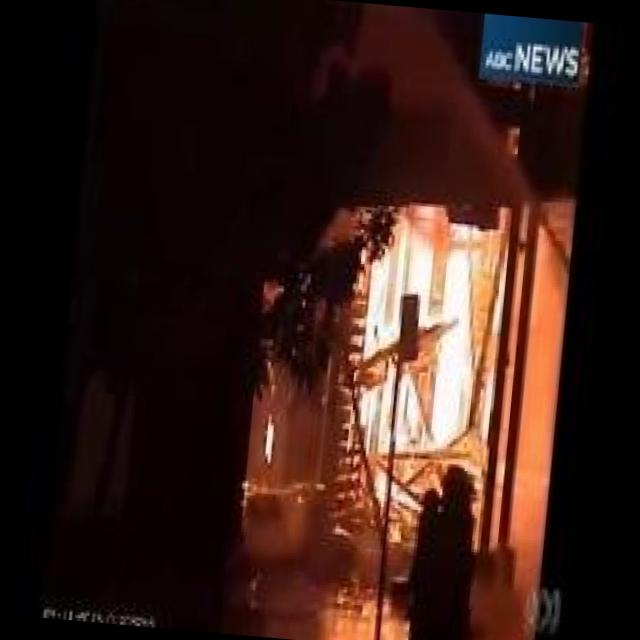fire: (333, 203, 511, 515)
